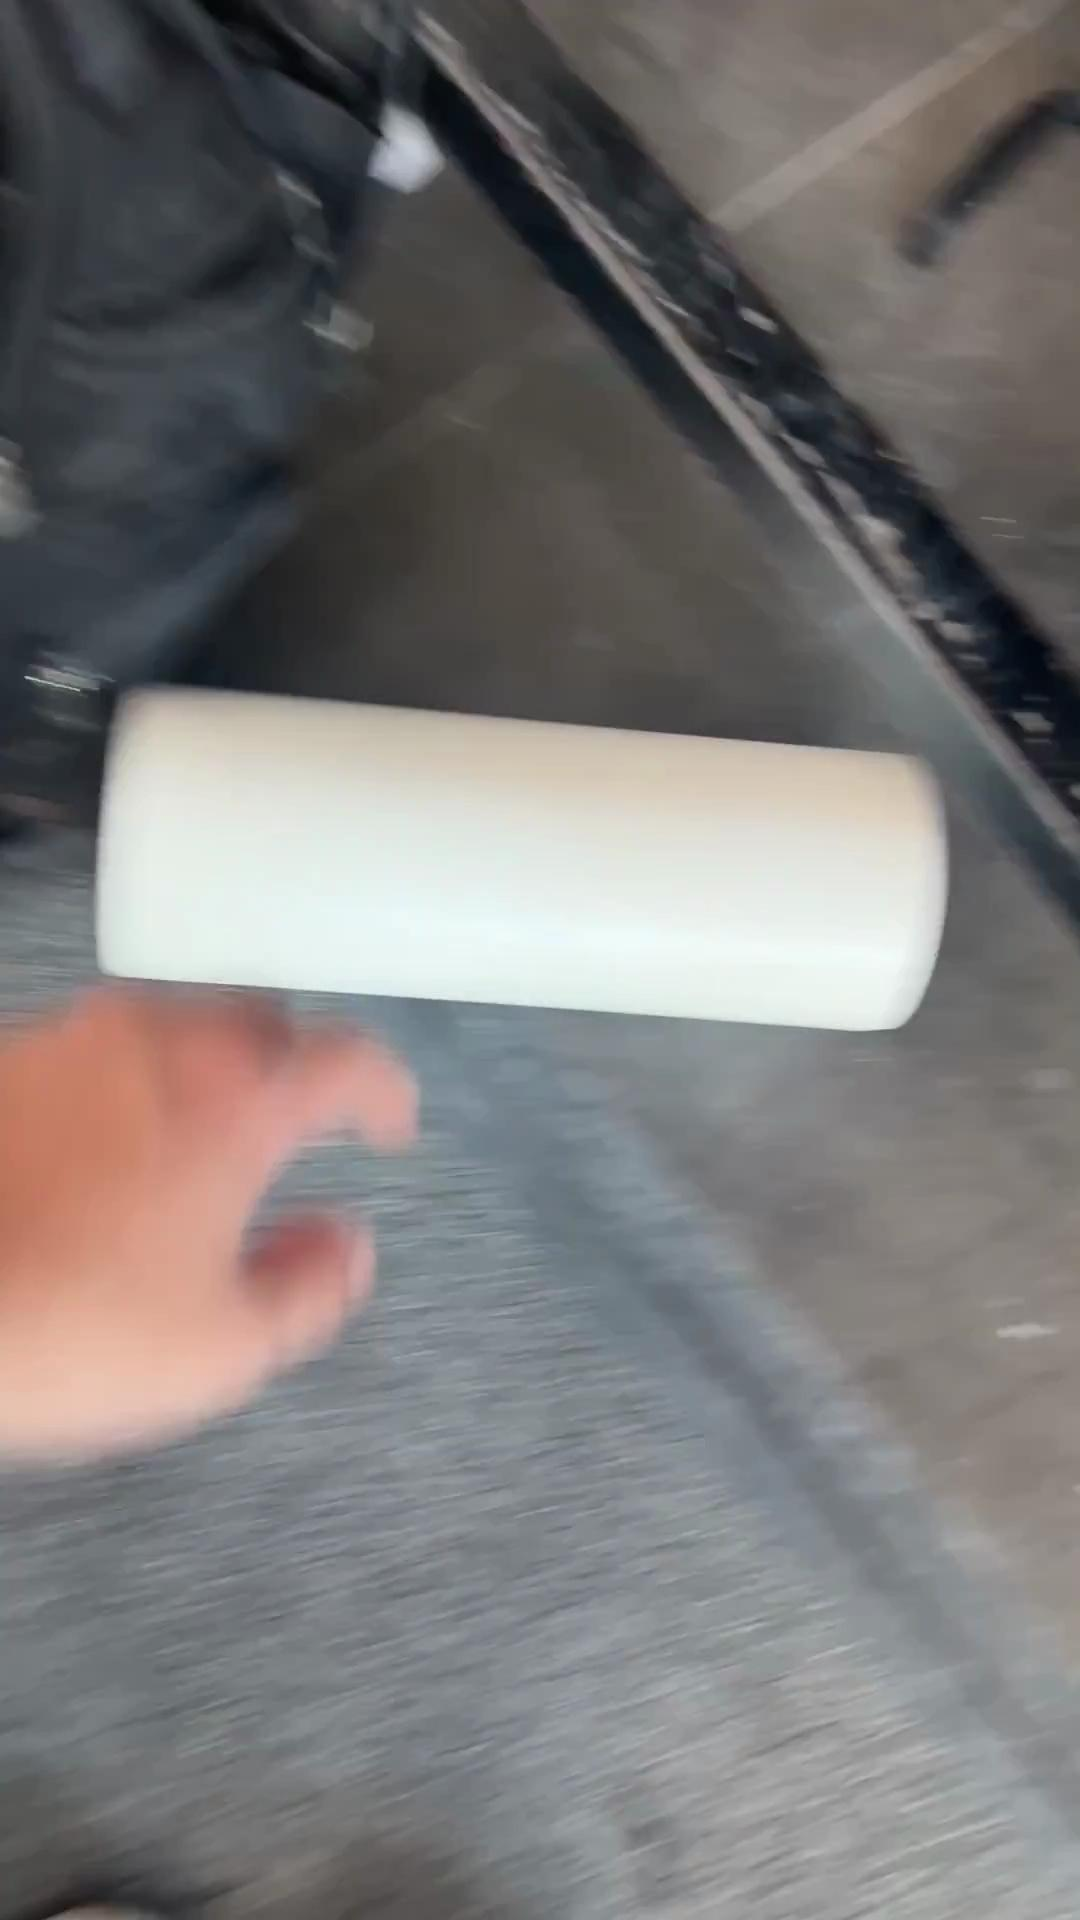CORAL: (91, 678, 951, 1036)
